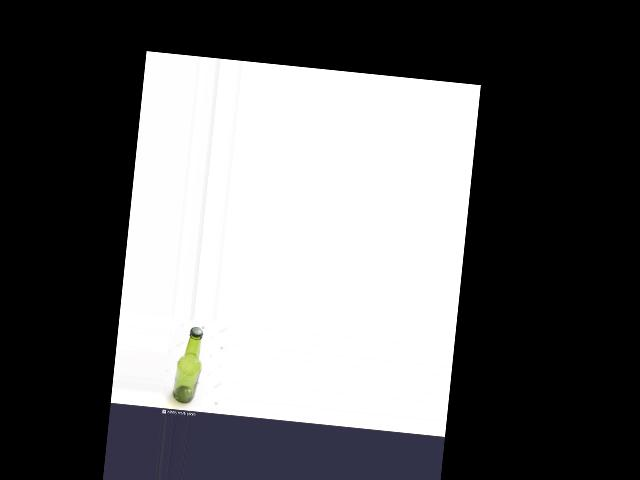beer: (172, 325, 204, 404)
